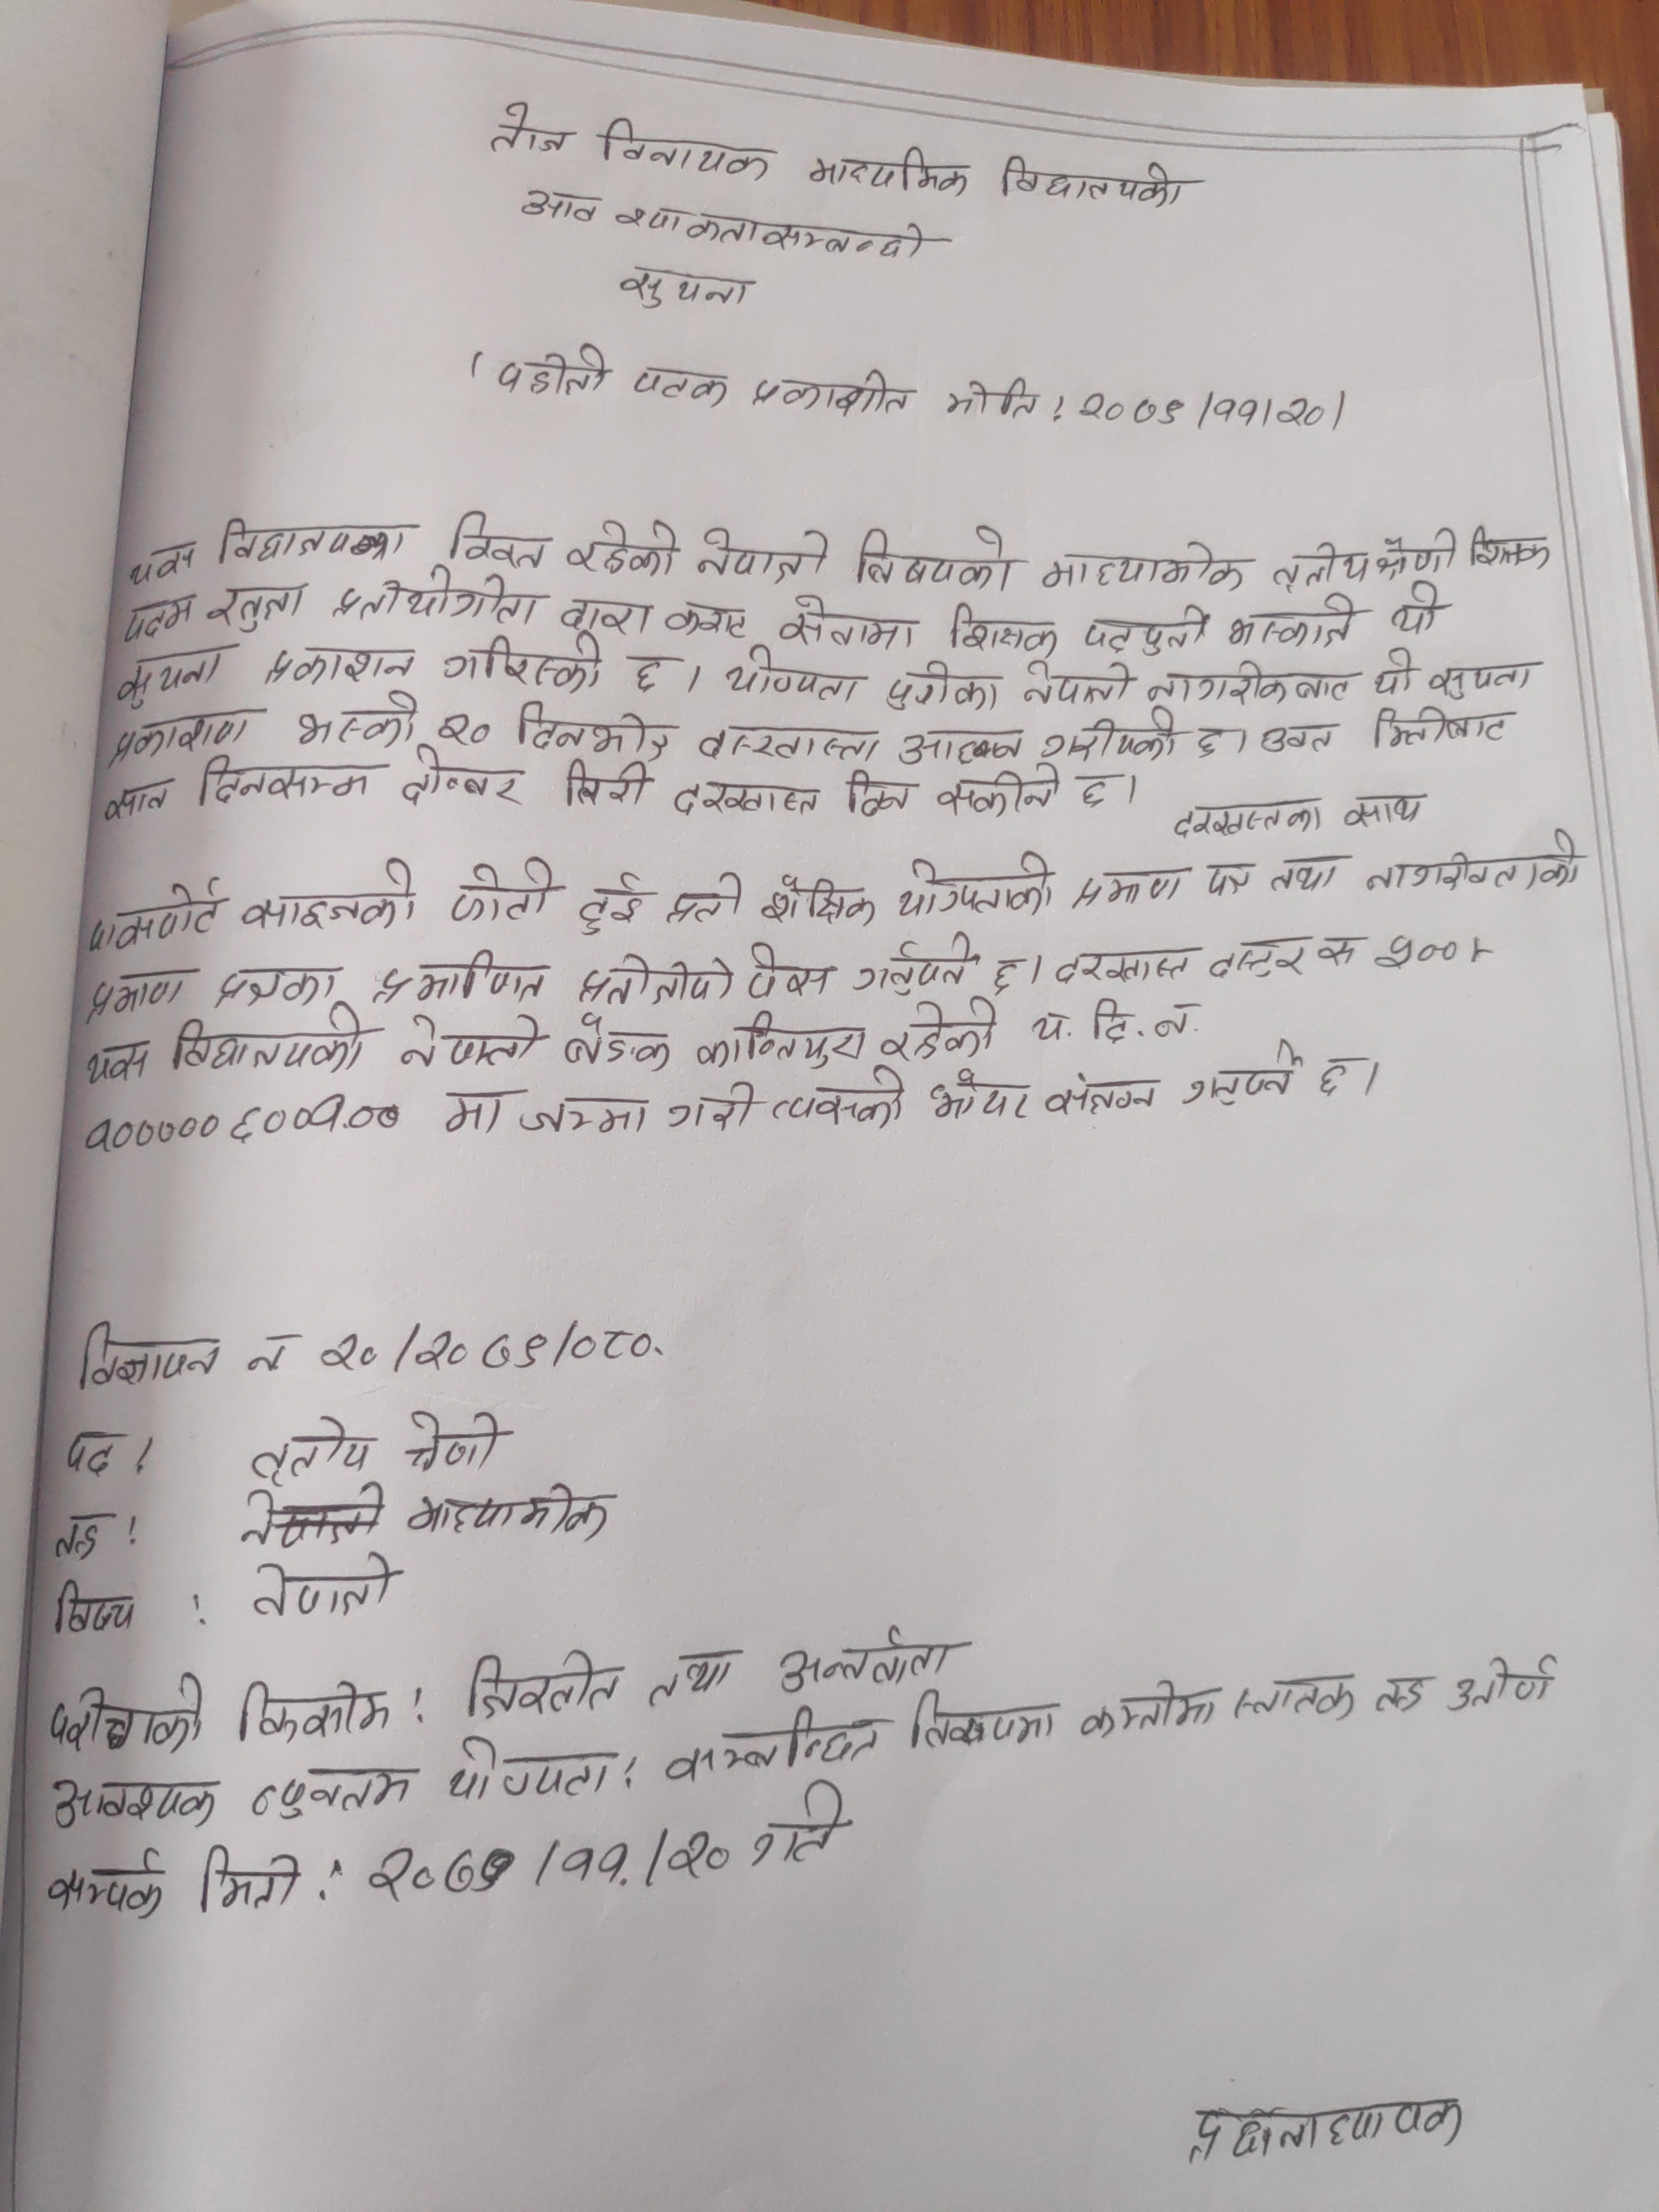text: (361, 1822, 732, 1902), (1180, 2088, 1471, 2172), (615, 197, 939, 265), (660, 1702, 890, 1782), (1361, 831, 1589, 902), (317, 1327, 674, 1371), (1075, 385, 1351, 441), (237, 857, 425, 935), (993, 150, 1199, 219), (774, 1623, 972, 1695), (403, 1482, 634, 1540), (49, 1672, 207, 1752), (329, 573, 542, 632), (1039, 540, 1256, 597), (169, 1014, 366, 1076), (904, 1691, 1066, 1766), (73, 1313, 221, 1395), (683, 1010, 875, 1073), (441, 1733, 617, 1801), (1150, 655, 1358, 712), (213, 510, 422, 566), (852, 524, 1019, 594), (47, 1770, 223, 1836), (464, 1651, 626, 1723), (890, 853, 1063, 920), (232, 1674, 394, 1743), (596, 115, 775, 178), (197, 749, 371, 813), (1019, 993, 1208, 1052), (85, 880, 225, 958), (695, 714, 885, 770), (509, 697, 674, 759), (244, 1555, 403, 1620), (373, 946, 551, 1003), (669, 763, 826, 826), (441, 639, 610, 697), (251, 1763, 420, 1820), (765, 1068, 908, 1136), (739, 1782, 849, 1869), (749, 368, 918, 423), (805, 146, 978, 200), (230, 1092, 403, 1146), (575, 953, 735, 1010), (772, 599, 924, 658), (1371, 702, 1528, 758), (880, 998, 1007, 1066), (1075, 1679, 1225, 1737), (47, 1848, 167, 1919), (403, 1005, 538, 1068), (1223, 1669, 1363, 1730), (694, 523, 831, 583), (1223, 594, 1363, 653), (404, 1402, 523, 1472), (1446, 1651, 1565, 1721), (195, 1838, 298, 1918), (845, 934, 971, 998), (1178, 1043, 1300, 1109), (716, 655, 861, 711), (622, 258, 758, 317), (448, 853, 558, 927), (256, 637, 425, 685), (106, 648, 228, 712), (756, 867, 878, 932), (516, 1092, 657, 1146), (1040, 716, 1185, 768), (552, 1015, 673, 1078), (242, 1423, 376, 1479), (939, 599, 1061, 660), (295, 690, 420, 749), (1053, 941, 1204, 989), (1202, 928, 1323, 989), (101, 711, 261, 756), (922, 1066, 1040, 1127), (1164, 799, 1328, 843), (890, 714, 1032, 765), (568, 519, 688, 578), (401, 749, 518, 810), (932, 763, 1056, 820), (498, 341, 612, 404), (1080, 601, 1211, 653), (444, 510, 552, 573), (884, 665, 1002, 721), (1042, 1068, 1159, 1123), (1272, 529, 1375, 592), (737, 942, 842, 1003), (202, 961, 347, 1005), (1072, 867, 1195, 918), (82, 1111, 223, 1155), (486, 92, 579, 158), (939, 373, 1046, 430), (645, 1649, 746, 1709), (47, 1581, 146, 1641), (85, 963, 193, 1017), (1375, 519, 1460, 587), (662, 1076, 760, 1136), (627, 359, 734, 413), (662, 871, 755, 932), (1018, 664, 1147, 707), (558, 752, 655, 810), (572, 871, 648, 944), (202, 583, 308, 636), (1419, 658, 1546, 702), (1363, 932, 1473, 977), (552, 592, 657, 639), (73, 1036, 160, 1092), (519, 178, 606, 230), (662, 594, 749, 646), (833, 770, 913, 826), (112, 594, 202, 643), (1464, 524, 1556, 571), (98, 775, 185, 822), (1345, 784, 1422, 836), (124, 538, 202, 589), (1370, 1665, 1434, 1726), (1382, 580, 1448, 639), (1258, 714, 1338, 761), (439, 1087, 505, 1139), (1270, 859, 1351, 900), (61, 1430, 132, 1475), (49, 1512, 110, 1562), (235, 1327, 298, 1372), (617, 648, 674, 697), (1370, 643, 1419, 700), (1310, 1052, 1363, 1104), (432, 709, 500, 747), (1195, 860, 1260, 900), (990, 953, 1028, 1010), (1073, 772, 1124, 813), (1319, 930, 1363, 977), (1190, 714, 1230, 765)
